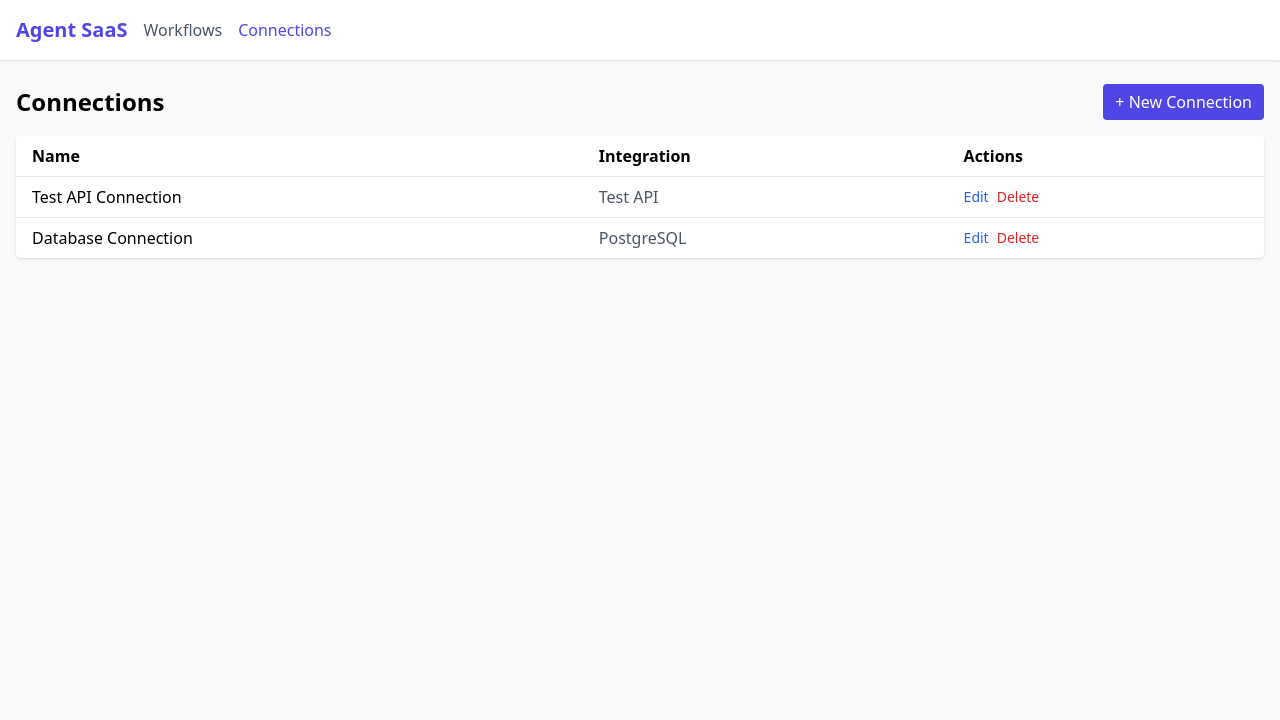
Scenario: Connections Page - Realistic Tests › should close modal on cancel
Click the button "+ New Connection".
click(1184, 102)  # box [1103,84,1264,120]
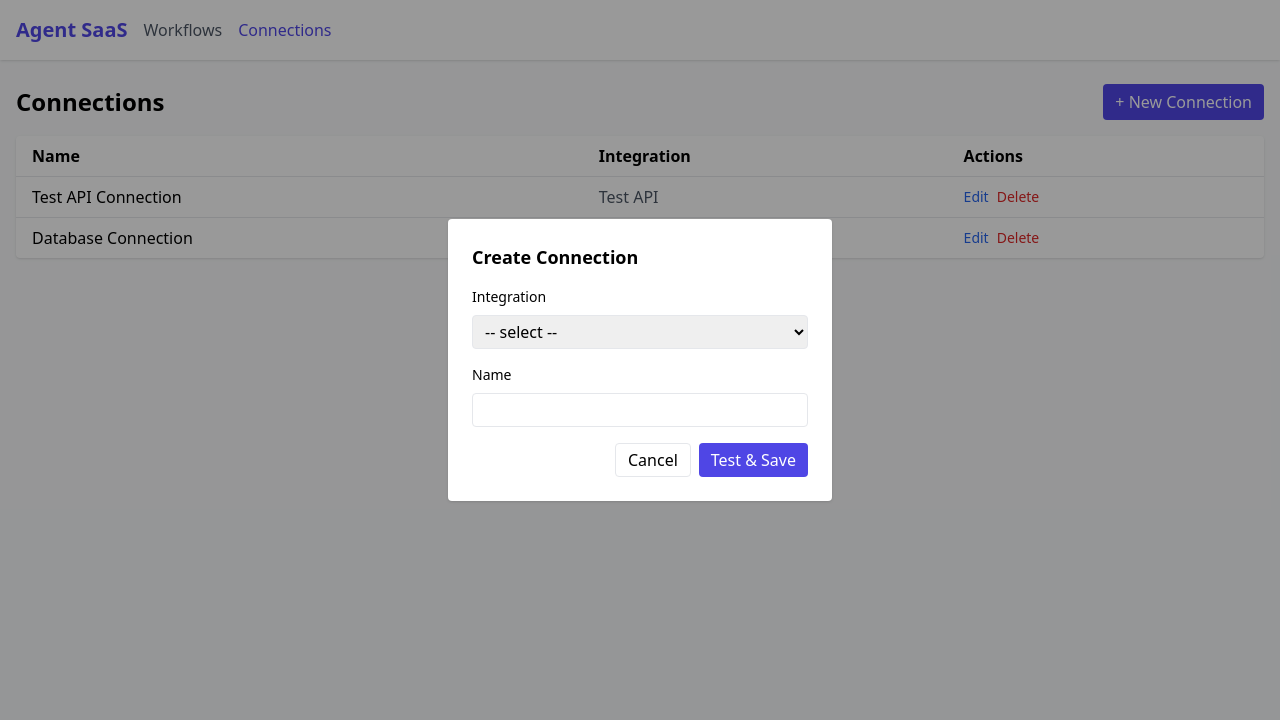
Click the button "Cancel".
click(653, 460)  # box [615,443,691,477]
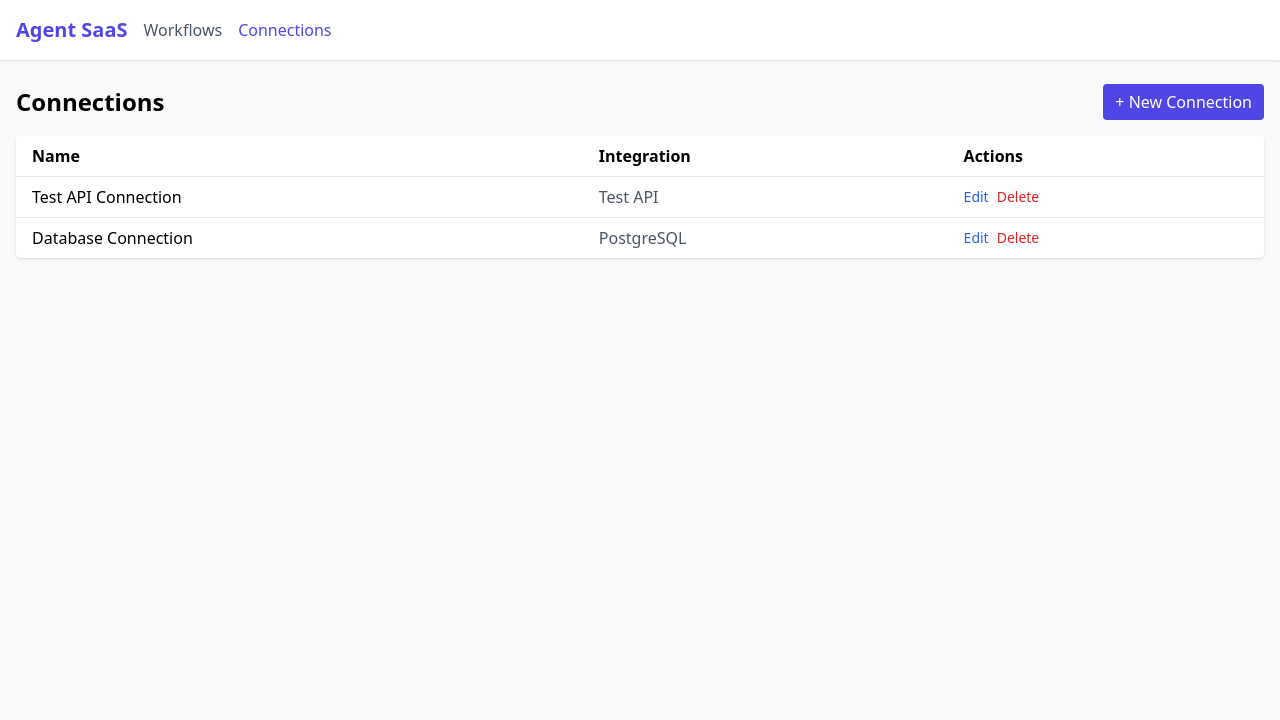
Result: the element with class "inset-0" is gone
